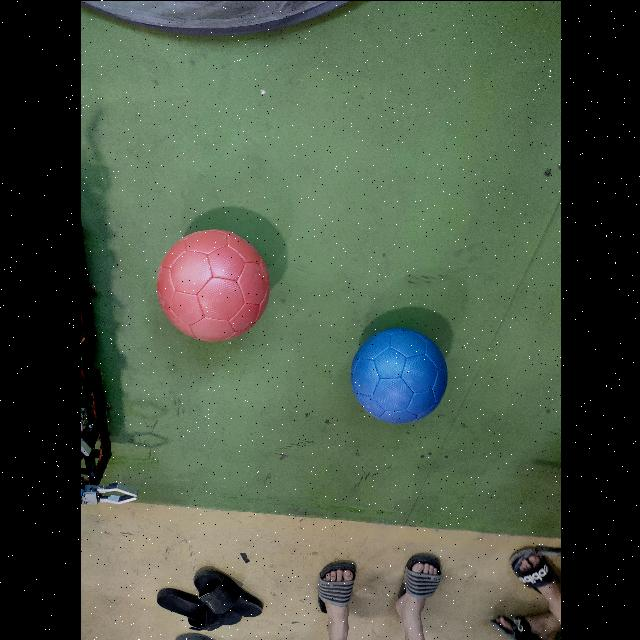B: (351, 327, 447, 422)
R: (157, 228, 268, 340)
